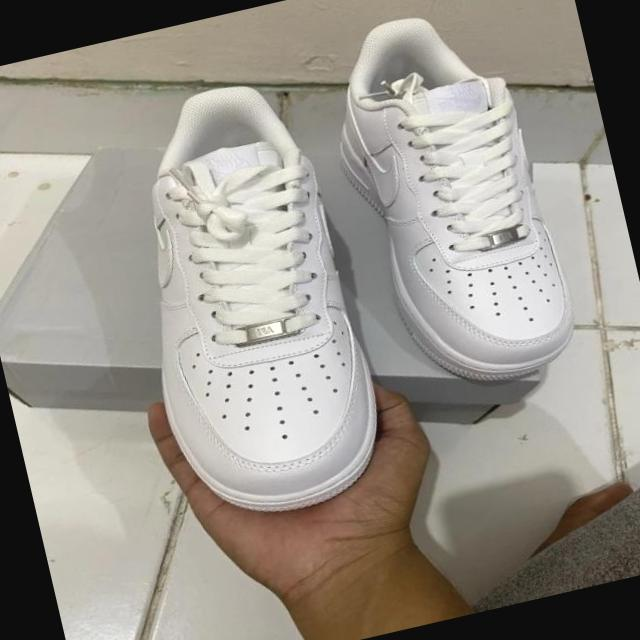nike_original_airforce: (100, 66, 407, 532), (310, 0, 593, 404)
